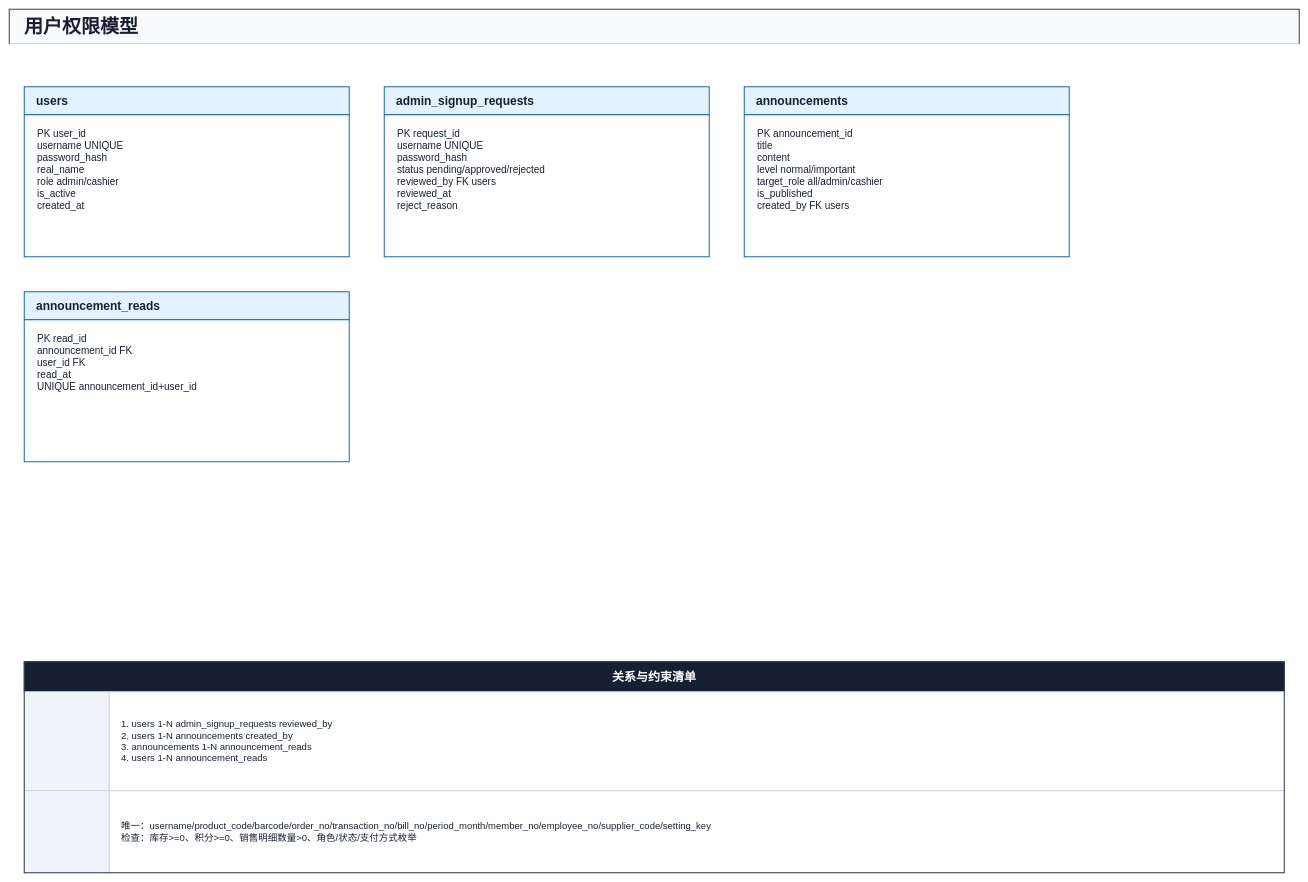
This 1308x882 diagram has some shape labels left out. Here are the shapes that lost their labels. From the top down, the centre of each, then its label:
At (x=654, y=54): "ER 模型｜表字段、主外键、唯一约束、关系清单".
At (x=67, y=741): "关系".
At (x=67, y=831): "约束".
